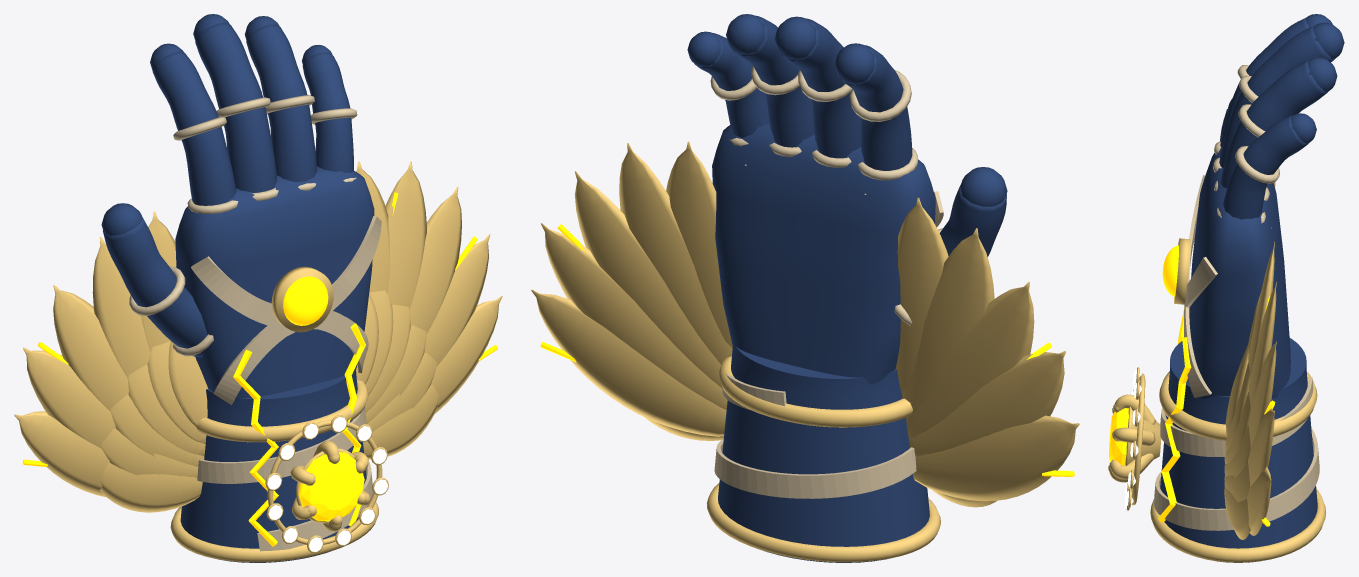
The model's file is gloves_haste_legendary.glb.
3 renders of one model, left to right at view 1: azimuth 30°, elevation 25°; view 2: azimuth 150°, elevation 25°; view 3: azimuth 270°, elevation 25°, orthographic. The views are drawn at different scales.
Visible parts, largest first — view 1: gloves_haste_legendary; view 2: gloves_haste_legendary; view 3: gloves_haste_legendary.
Boxes of the visible parts, bbox=[...] form: gloves_haste_legendary: bbox=[14, 14, 502, 562]; gloves_haste_legendary: bbox=[531, 14, 1079, 562]; gloves_haste_legendary: bbox=[1108, 14, 1344, 562].
Bounding box in the file's own units: 2.58 × 2.45 × 1.08.
